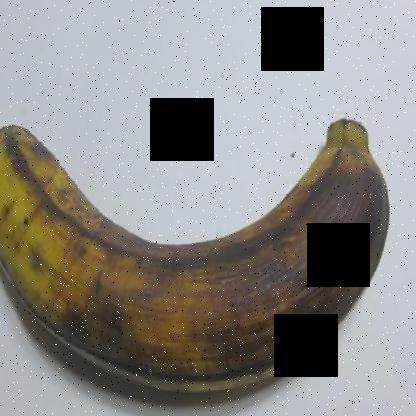overripe: (1, 117, 398, 413)
